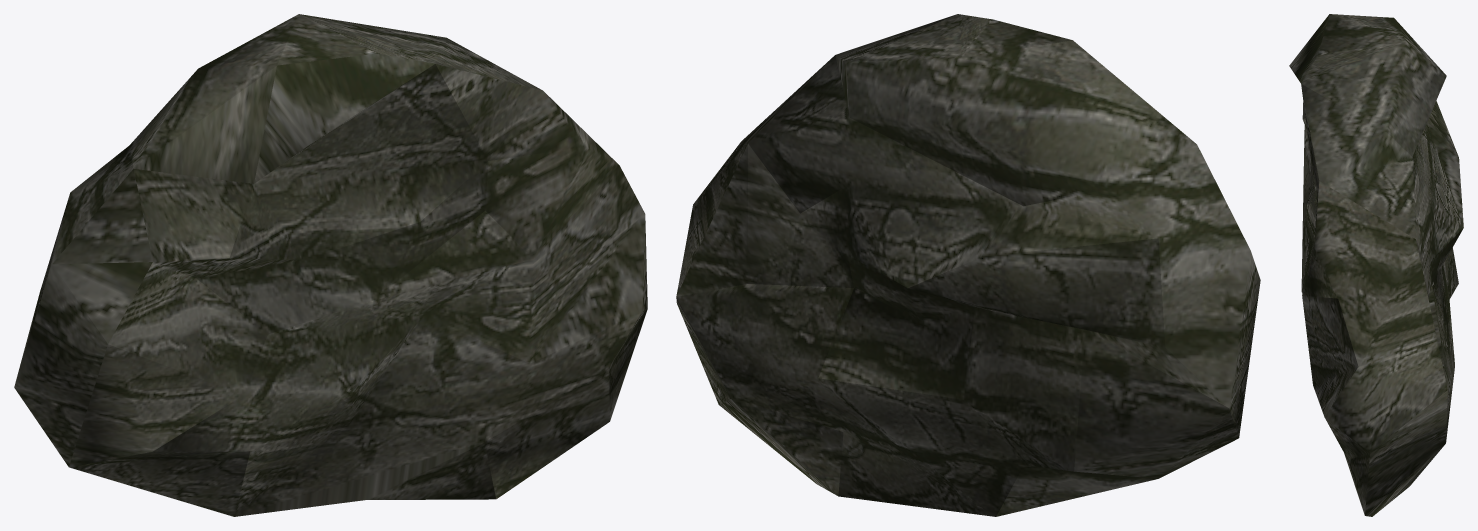
Rendered from rock005.FBX.
3 renders of one model, left to right at view 1: azimuth 30°, elevation 25°; view 2: azimuth 150°, elevation 25°; view 3: azimuth 270°, elevation 25°, orthographic. The views are drawn at different scales.
Visible parts, largest first — view 1: TI_Cliff_02_m; view 2: TI_Cliff_02_m; view 3: TI_Cliff_02_m.
Part boxes in pixels (left/top/right/bottom): TI_Cliff_02_m: left=14, top=14, right=647, bottom=516; TI_Cliff_02_m: left=676, top=14, right=1260, bottom=516; TI_Cliff_02_m: left=1289, top=14, right=1463, bottom=516.
Size of the model in its own units: 1.83 by 1.47 by 0.571.
1 material, 1 textured.
